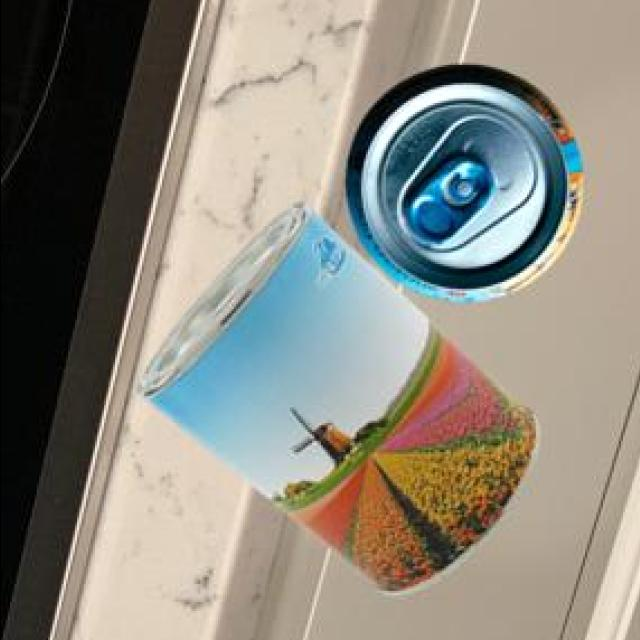logam: (133, 198, 536, 592), (341, 62, 578, 299)
